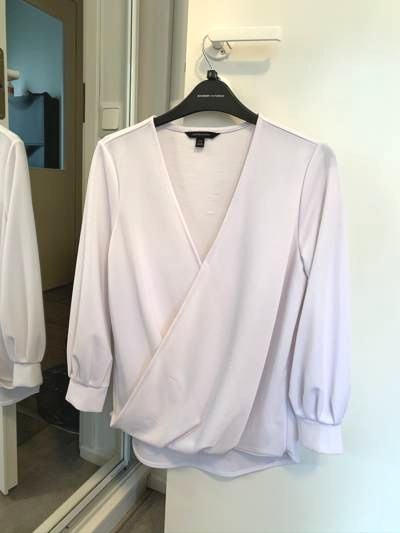Blouse: (64, 81, 372, 474)
